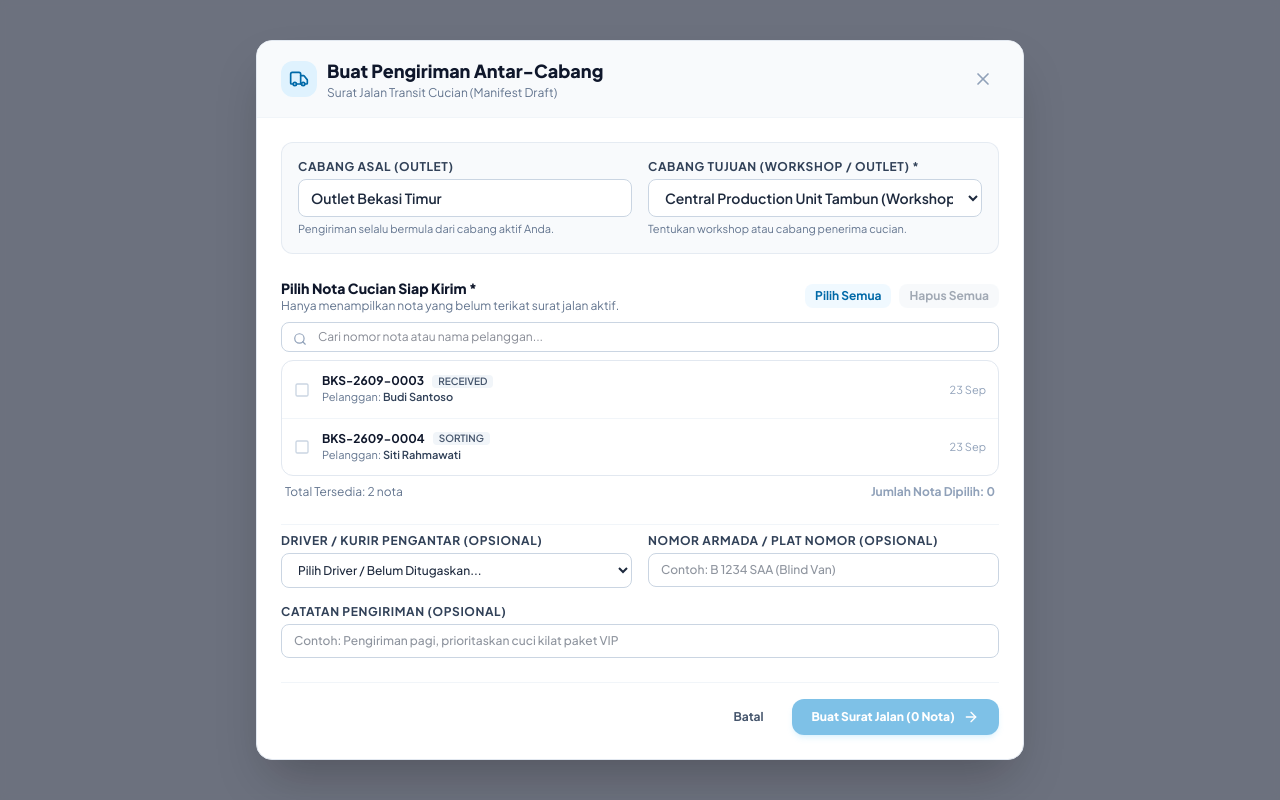
Test: Transit Manifest UI Components › CreateManifestModal › opens modal, renders eligible orders, handles select all / deselect all, and prevents submit without order
expect the heading "Buat Pengiriman Antar-Cabang" is shown: met, box [327,57,603,85]
expect the text "BKS-2609-0003" is shown: met, box [322,373,424,389]
Click "Pilih Semua"
Click the button "Pilih Semua" at (848, 296), box [805,284,892,308]
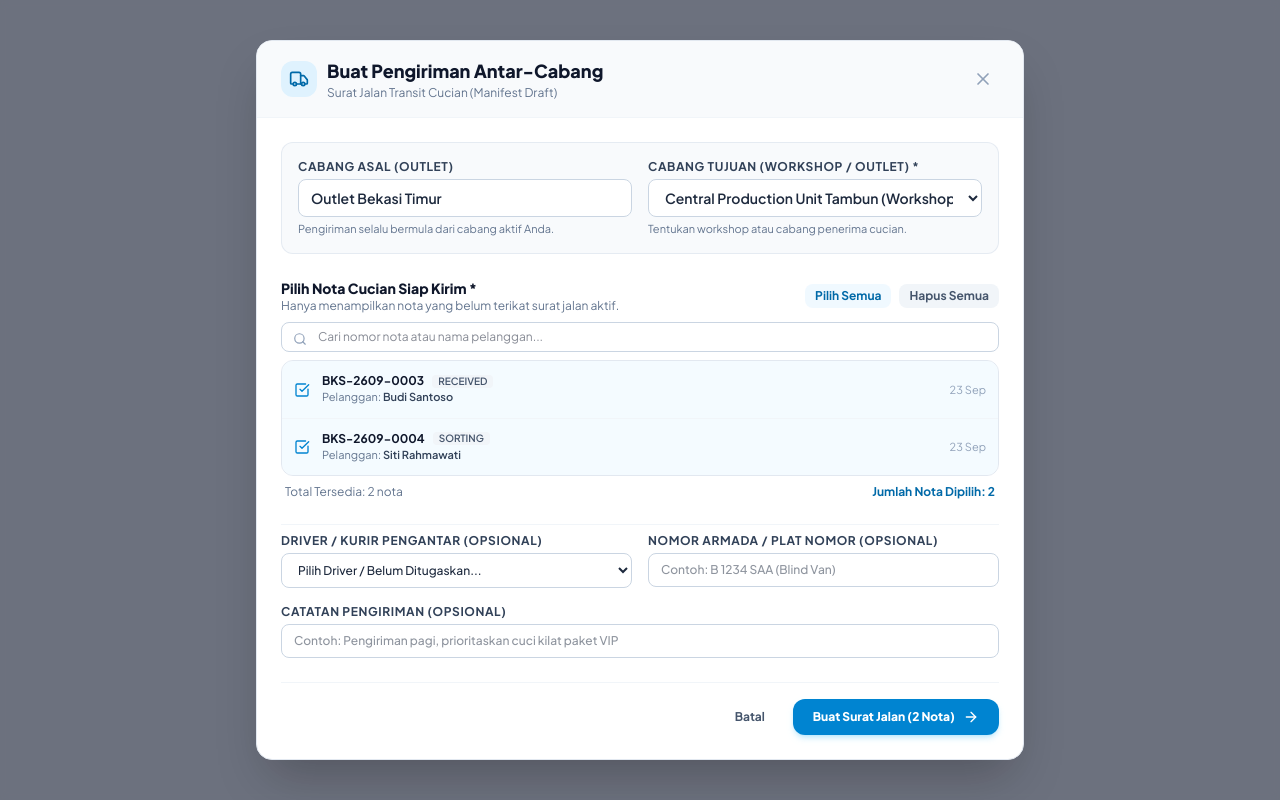
expect the text "Jumlah Nota Dipilih: 2" is shown: met, box [872,484,995,500]
expect the button "Buat Surat Jalan (2 Nota)" is enabled: met, box [793,699,999,735]
Click "Hapus Semua"
Click the button "Hapus Semua" at (949, 296), box [900,284,999,308]
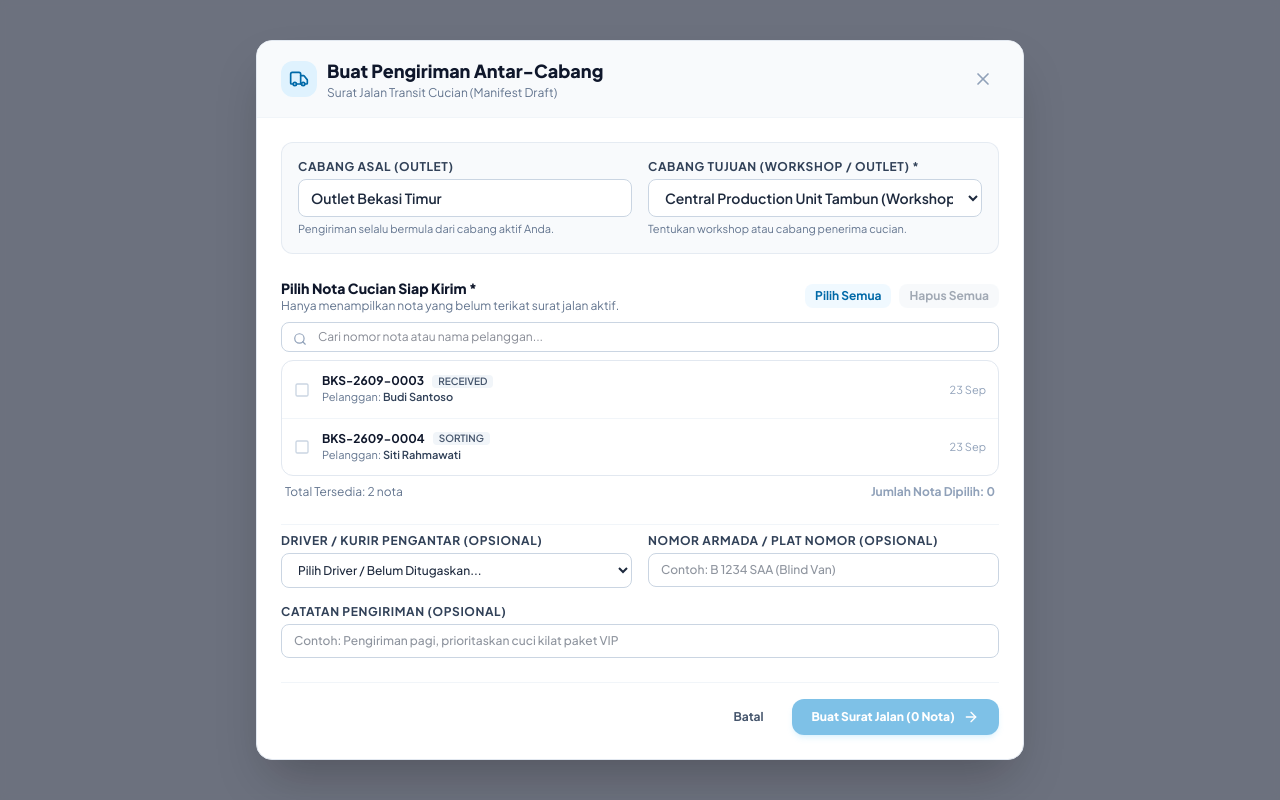
expect the text "Jumlah Nota Dipilih: 0" is shown: met, box [871,484,995,500]
expect the button "Buat Surat Jalan (0 Nota)" is disabled: met, box [792,699,999,735]
